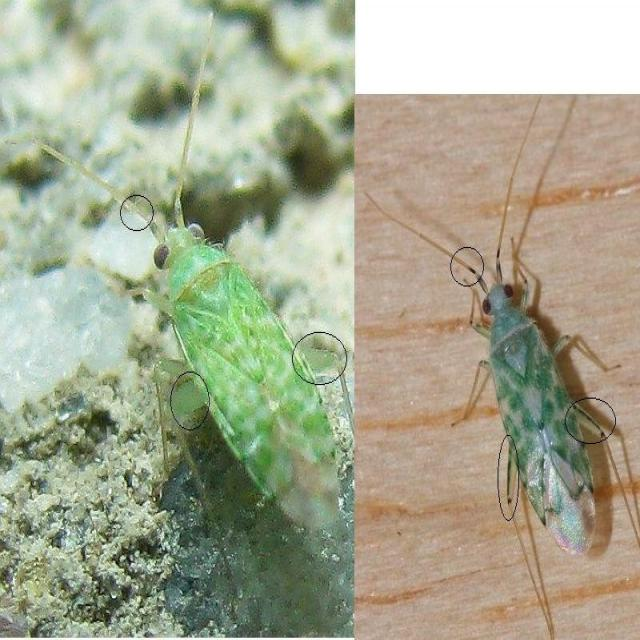Miridae-Adult-: (26, 5, 351, 579), (363, 95, 638, 636)
